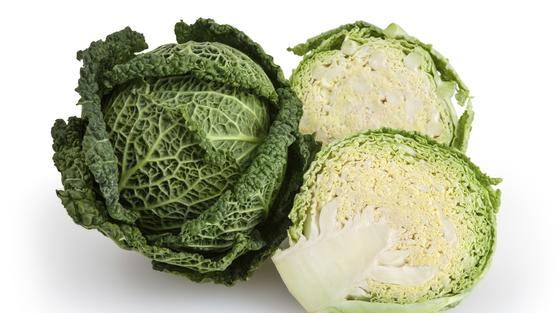cabbage: (59, 35, 308, 283)
